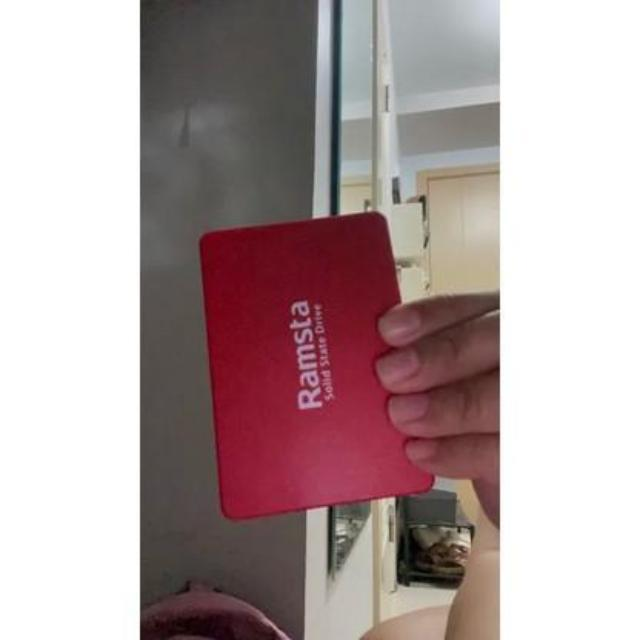DISK: (194, 208, 434, 520)
